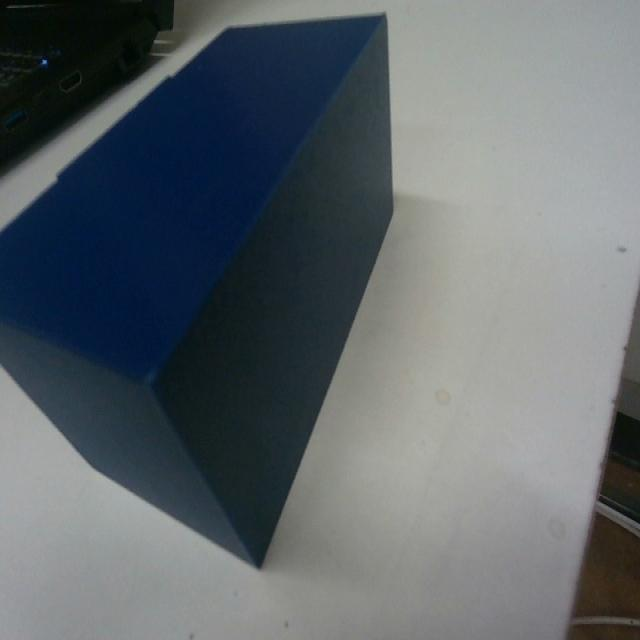Blue Cuboid: (0, 9, 396, 568)
